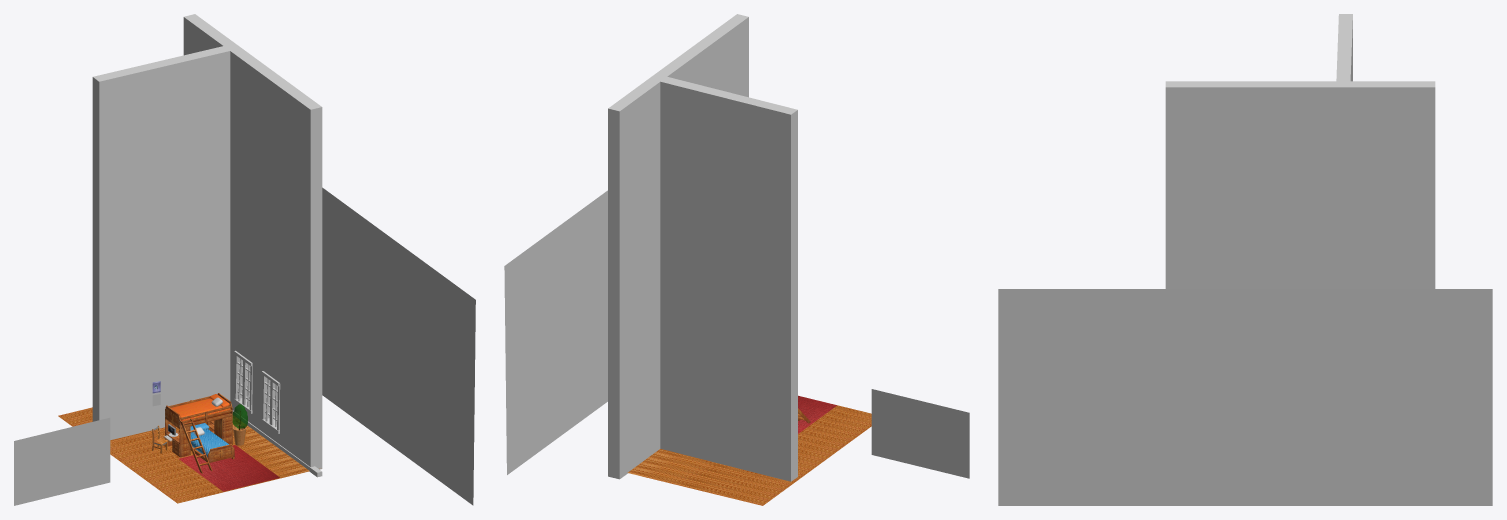
Rendered from cama_doble.FBX.
The picture shows the model from 3 angles, left to right: view 1: azimuth 30°, elevation 25°; view 2: azimuth 150°, elevation 25°; view 3: azimuth 270°, elevation 25°; orthographic projection. The views are drawn at different scales.
Visible parts, largest first — view 1: Box02, Box01, Plane06, Plane03, Plane01, Layer:0 (×2), Plane02, ChamferBox01, ChamferBox05; view 2: Box02, Box01, Plane06, Plane01, Plane03, Plane02; view 3: Plane06, Box01, Box02.
Boxes of the visible parts, left/top/right/bottom form: Box02: left=92, top=45, right=231, bottom=439; Box01: left=183, top=14, right=322, bottom=469; Plane06: left=322, top=187, right=475, bottom=505; Plane03: left=14, top=417, right=110, bottom=505; Plane01: left=58, top=407, right=319, bottom=503; Layer:0 (×2): left=165, top=393, right=234, bottom=473; Plane02: left=178, top=445, right=279, bottom=491; ChamferBox01: left=171, top=398, right=230, bottom=424; ChamferBox05: left=190, top=429, right=228, bottom=457; Box02: left=656, top=76, right=797, bottom=481; Box01: left=608, top=14, right=748, bottom=479; Plane06: left=504, top=190, right=607, bottom=474; Plane01: left=627, top=405, right=871, bottom=505; Plane03: left=871, top=389, right=969, bottom=478; Plane02: left=798, top=395, right=836, bottom=433; Plane06: left=998, top=289, right=1492, bottom=505; Box01: left=1165, top=81, right=1435, bottom=288; Box02: left=1336, top=14, right=1352, bottom=83.
Size of the model in its own units: 12788 by 12909 by 15021.
